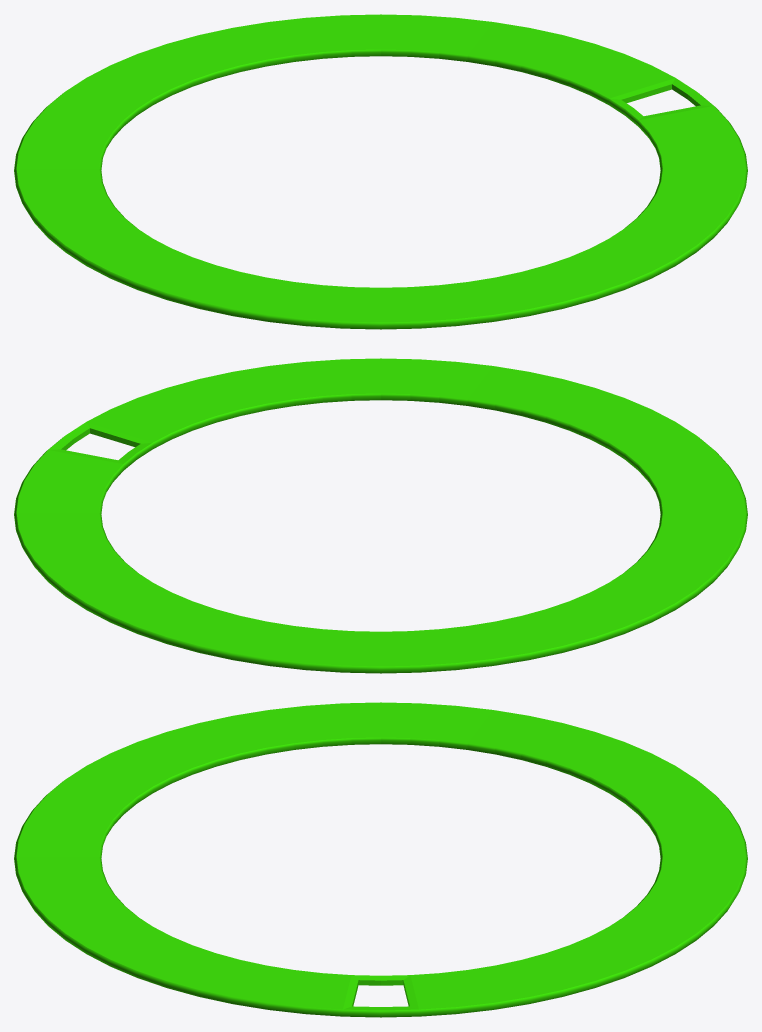
Rendered from Code_Cylinder_Hole_03.fbx.
3 renders of one model, top to bottom at view 1: azimuth 30°, elevation 25°; view 2: azimuth 150°, elevation 25°; view 3: azimuth 270°, elevation 25°, orthographic.
Parts seen in each view (by area): view 1: Code_Cylinder_Hole_03; view 2: Code_Cylinder_Hole_03; view 3: Code_Cylinder_Hole_03.
Part boxes in pixels (x1,y1,x2,y2): Code_Cylinder_Hole_03: [14, 14, 747, 329]; Code_Cylinder_Hole_03: [14, 358, 747, 673]; Code_Cylinder_Hole_03: [14, 702, 747, 1017].
Bounding box in the file's own units: 127 × 1.34 × 127.
